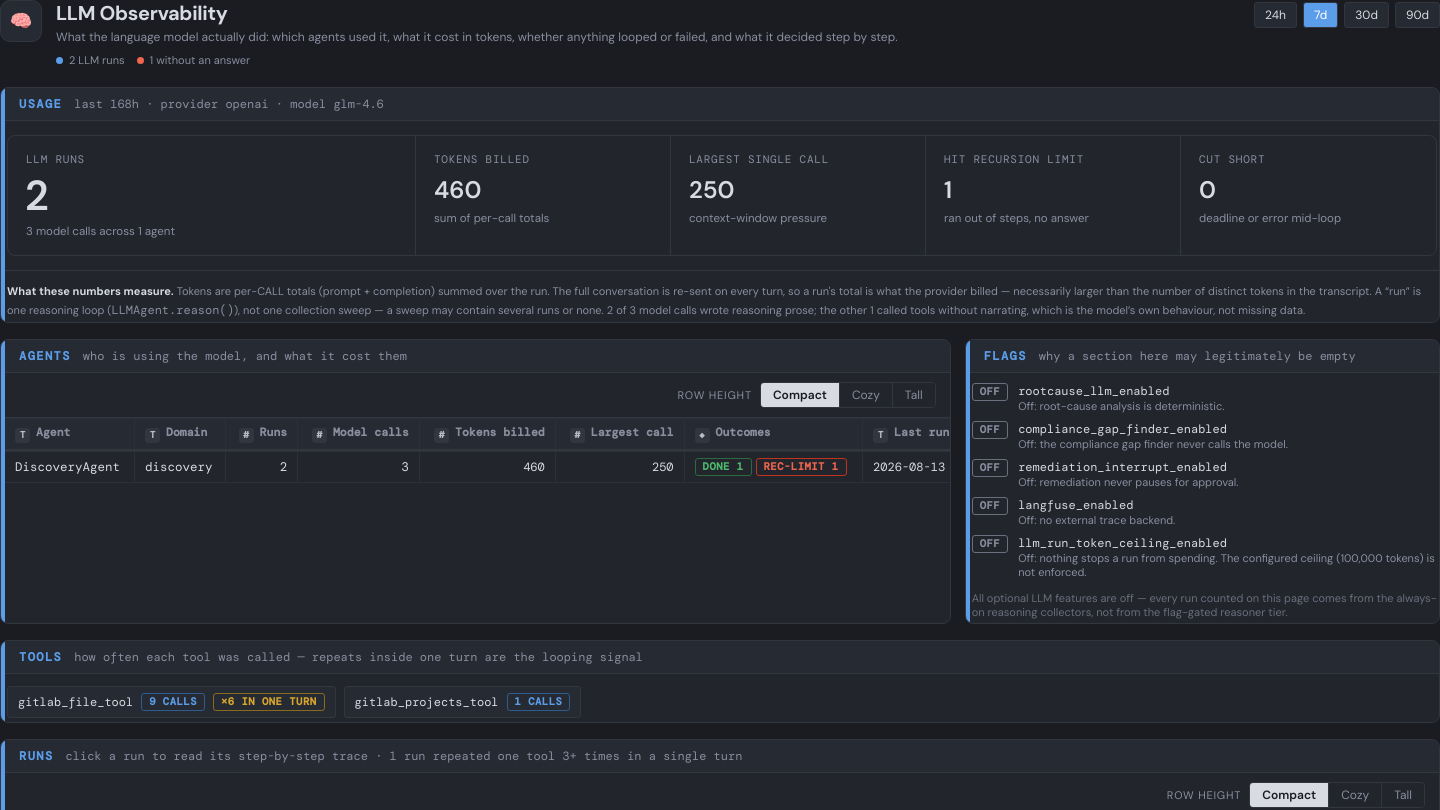
Test: LLM Observability page › does not blank the page on a refresh error
Check: the text "LLM Runs" is shown, box [26, 152, 85, 166]
Click the button "30d": x=1367, y=15 [1344, 2, 1389, 28]
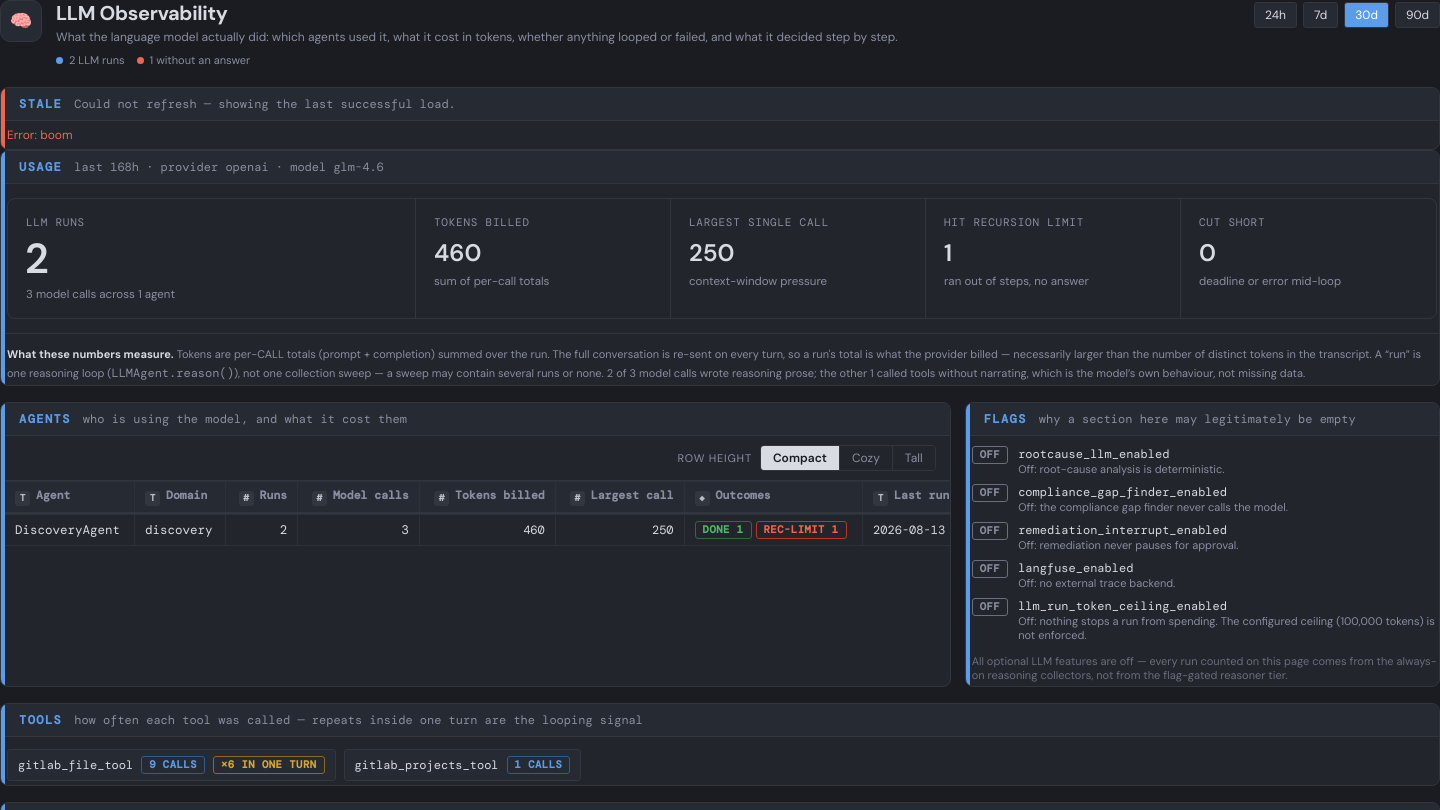
Check: the text "LLM Runs" is shown, box [26, 215, 85, 229]
Check: the text "STALE" is shown, box [19, 96, 62, 112]
